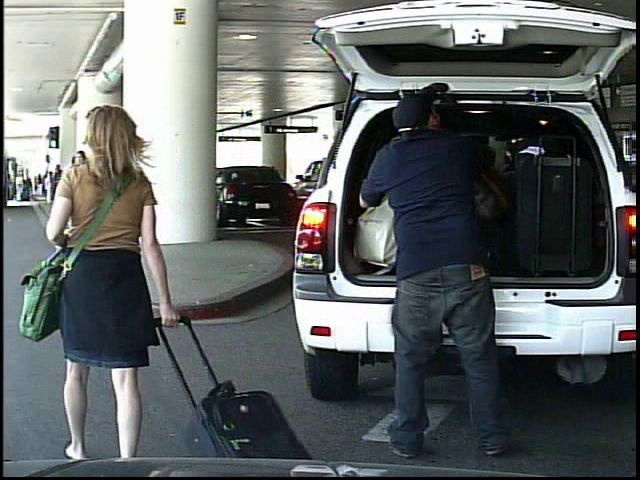person: (366, 42, 543, 475), (69, 92, 217, 450), (14, 173, 25, 204), (36, 174, 46, 201)
